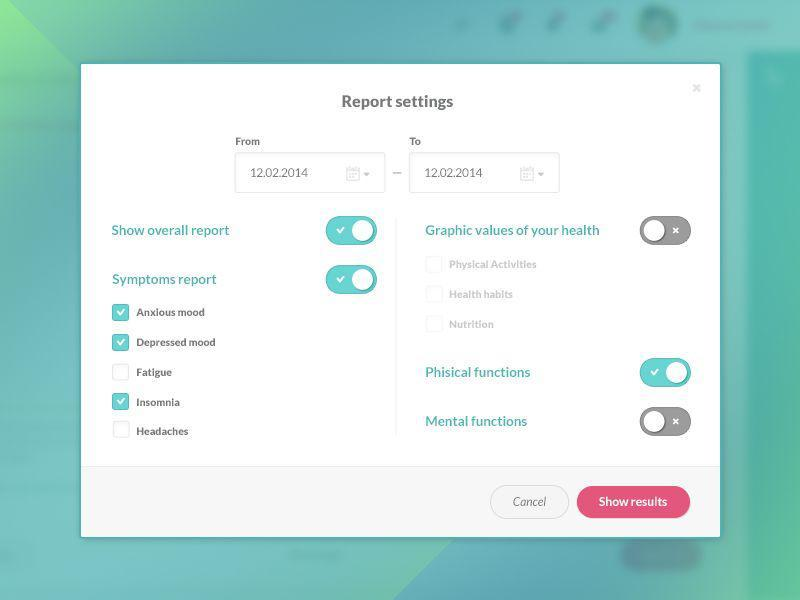button: (578, 485, 691, 521), (490, 486, 570, 521)
checkbox: (112, 363, 131, 383), (112, 392, 131, 412), (112, 421, 131, 440), (112, 304, 131, 322), (112, 334, 131, 352)
dropdown: (235, 152, 388, 195), (410, 154, 561, 195)
label: (424, 221, 601, 240), (342, 92, 455, 110), (425, 366, 532, 383), (112, 224, 232, 238), (450, 256, 539, 273), (111, 274, 218, 287), (424, 415, 528, 427), (449, 288, 516, 303), (137, 338, 218, 349), (136, 309, 206, 319), (137, 427, 190, 438), (449, 320, 497, 331), (137, 398, 181, 409), (136, 368, 172, 380), (235, 135, 262, 148), (409, 136, 423, 148)
switch: (324, 265, 378, 297), (641, 407, 692, 440), (324, 217, 379, 246), (640, 359, 693, 389), (642, 216, 692, 246)
